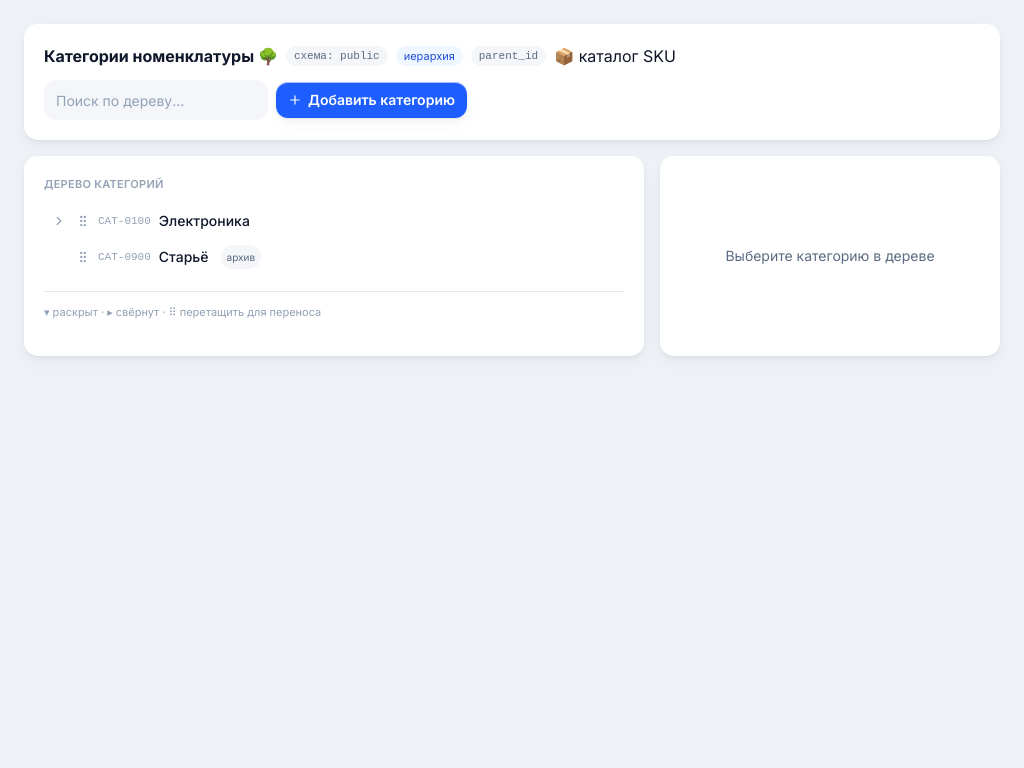
Test: SpravCategories › переименование зовёт patchNomenclatureGroup с кодом узла и новым именем
This screenshot has width=1024, height=768.
Click the text "Электроника".
click(204, 220)  # box [159,210,250,230]
(page scrolled)
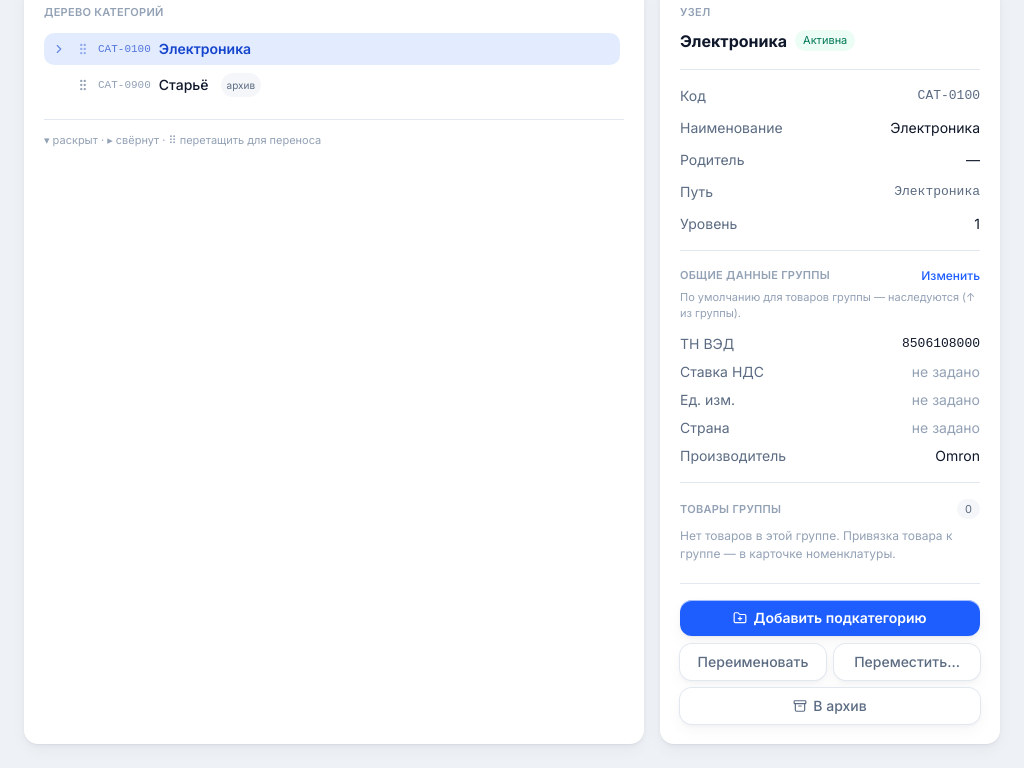
Click the button "Переименовать".
click(753, 662)  # box [680,644,826,680]
(page scrolled)
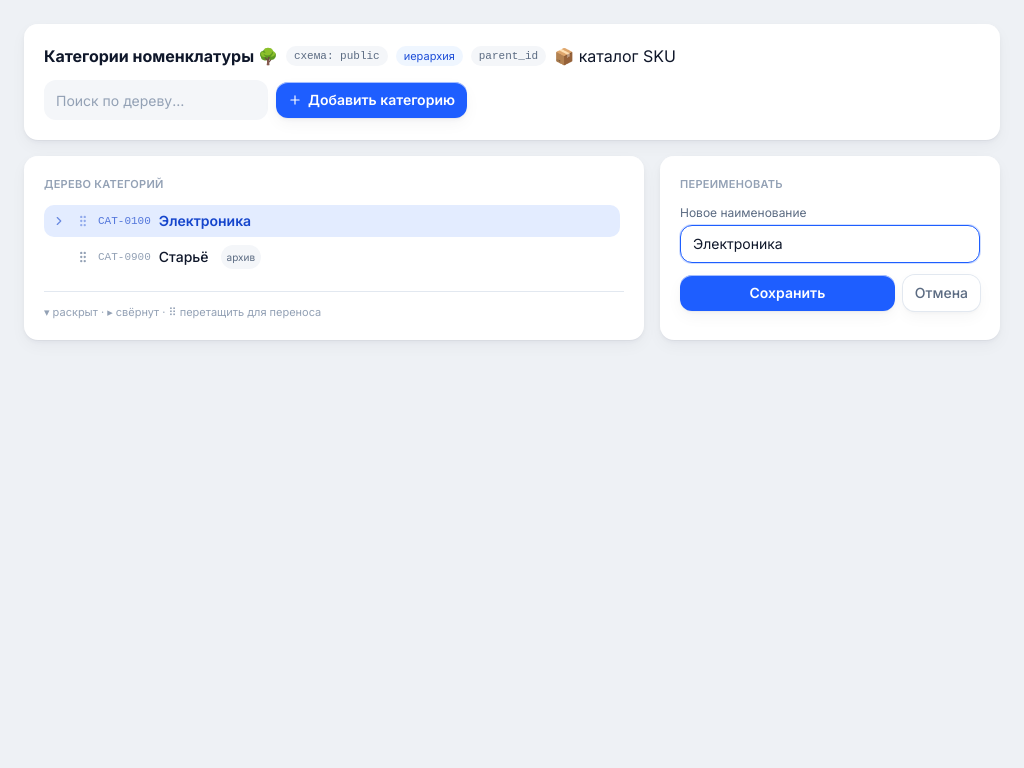
Replace the text in the field showing "Электроника" with "Электротовары" at (830, 244), box [680,224,980,262]
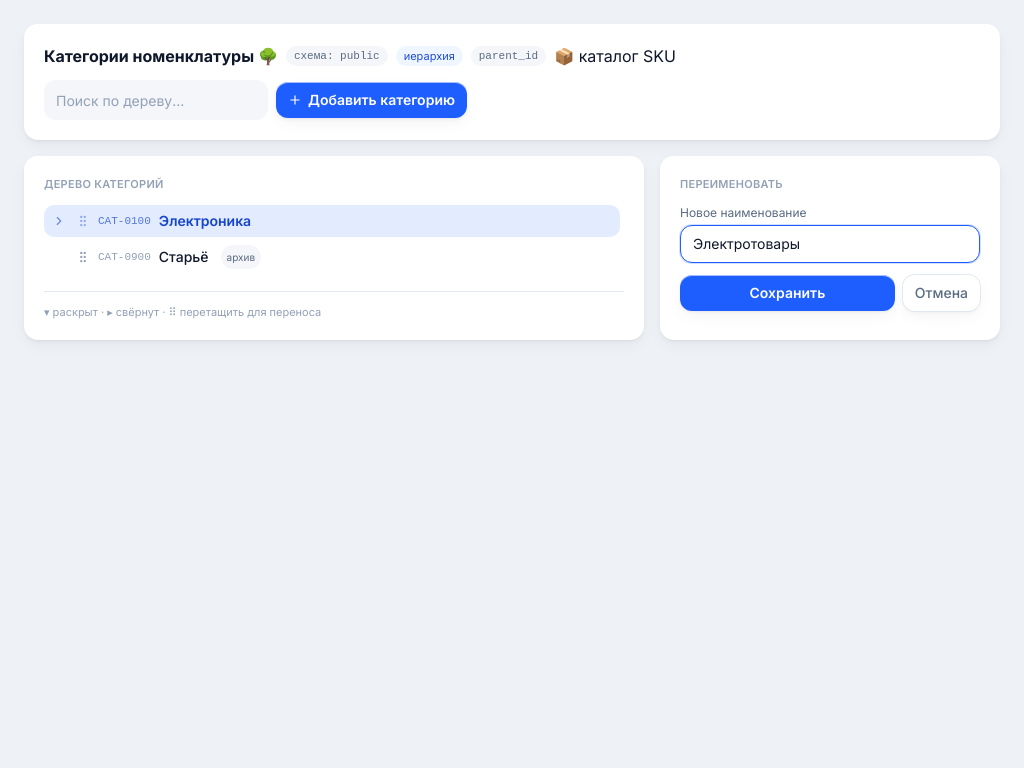
Click the button "Сохранить".
click(787, 292)  # box [680,274,895,310]
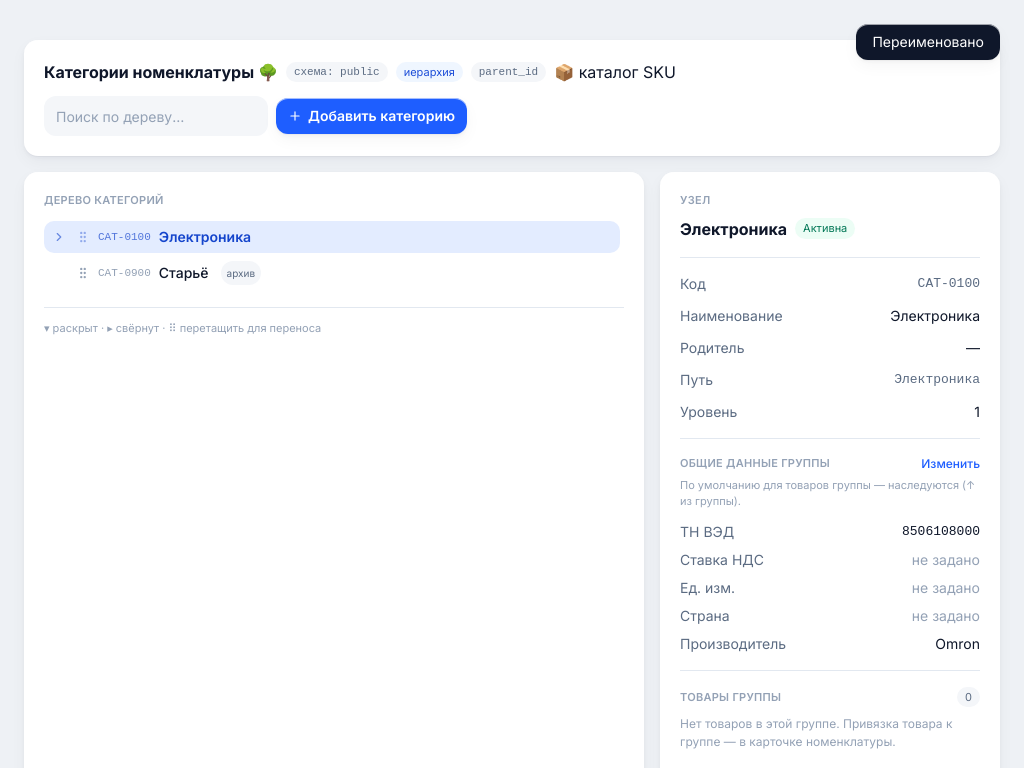
Now the text "Переименовано" is shown, box [856,24,1000,60]
